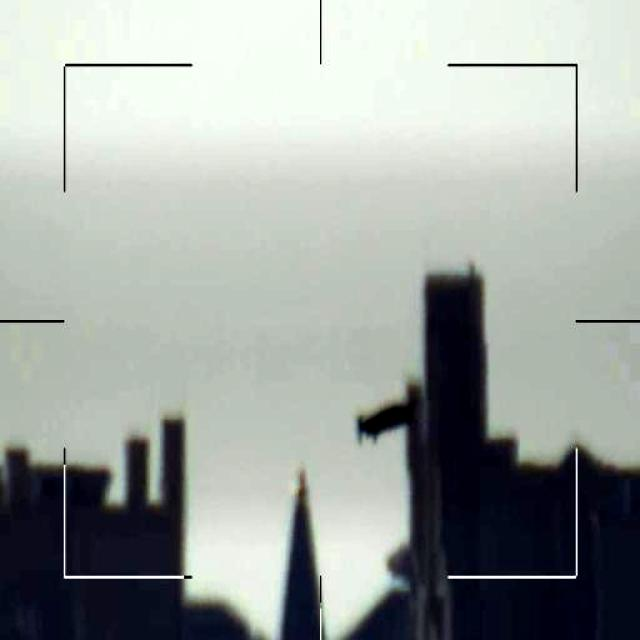bird: (356, 394, 420, 441)
